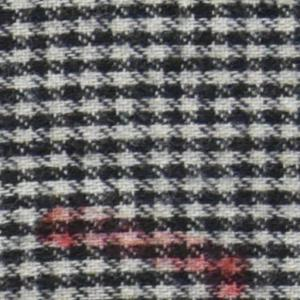Stain: (33, 202, 258, 300)
